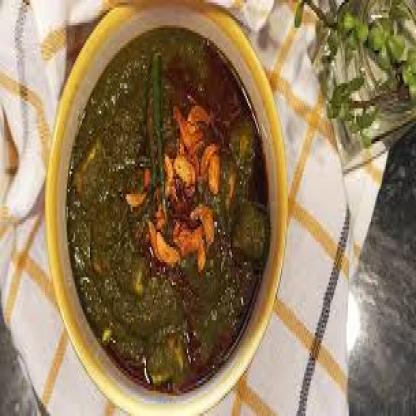palak_paneer: (65, 25, 271, 395)
